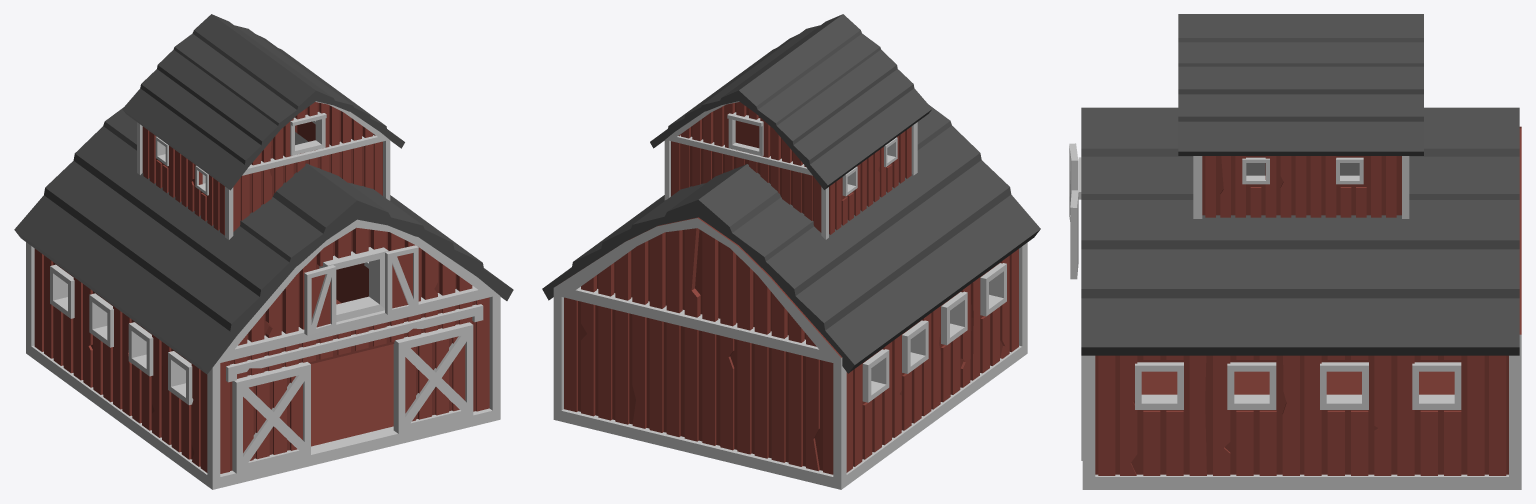
The model's file is q-big-barn-q1n3xn2spc.glb.
3 views of the same model, side by side, from view 1: azimuth 30°, elevation 25°; view 2: azimuth 150°, elevation 25°; view 3: azimuth 270°, elevation 25° (orthographic). The views are drawn at different scales.
Visible parts, largest first — view 1: BigBarn_Cube.034, BigBarn_Door_Cube.009, BigBarn_Door2_Cube.012, BigBarn_Window_Cube.017, BigBarn_Window2_Cube.016; view 2: BigBarn_Cube.034; view 3: BigBarn_Cube.034, BigBarn_Window_Cube.017, BigBarn_Window2_Cube.016.
Part boxes in pixels (x1,y1,x2,y2): BigBarn_Cube.034: (14,14,513,489); BigBarn_Door_Cube.009: (393,322,473,433); BigBarn_Door2_Cube.012: (232,362,310,473); BigBarn_Window_Cube.017: (385,245,418,314); BigBarn_Window2_Cube.016: (304,265,336,335); BigBarn_Cube.034: (542,14,1040,489); BigBarn_Cube.034: (1078,14,1521,489); BigBarn_Window_Cube.017: (1070,190,1078,279); BigBarn_Window2_Cube.016: (1069,143,1078,221).
Size of the model in its own units: 7.73 by 7.89 by 8.22.
